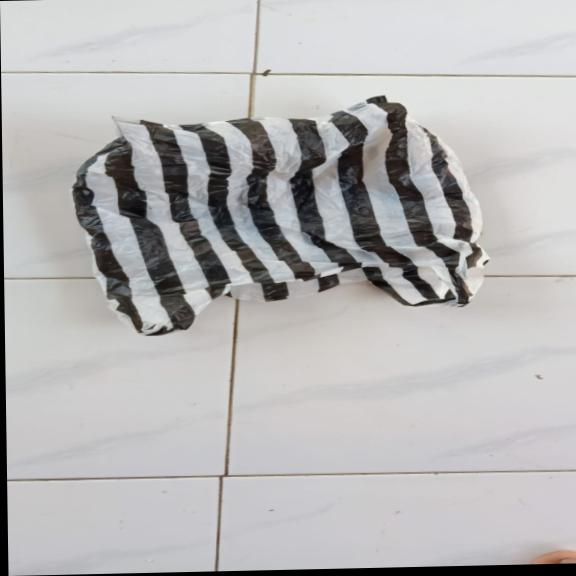Plastik: (71, 91, 494, 338)
